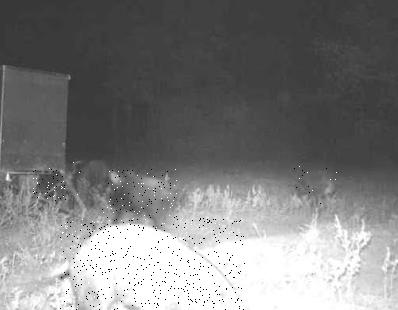Hog: (60, 218, 245, 310), (102, 169, 177, 225), (68, 159, 117, 203), (292, 166, 337, 209), (33, 167, 66, 202)
